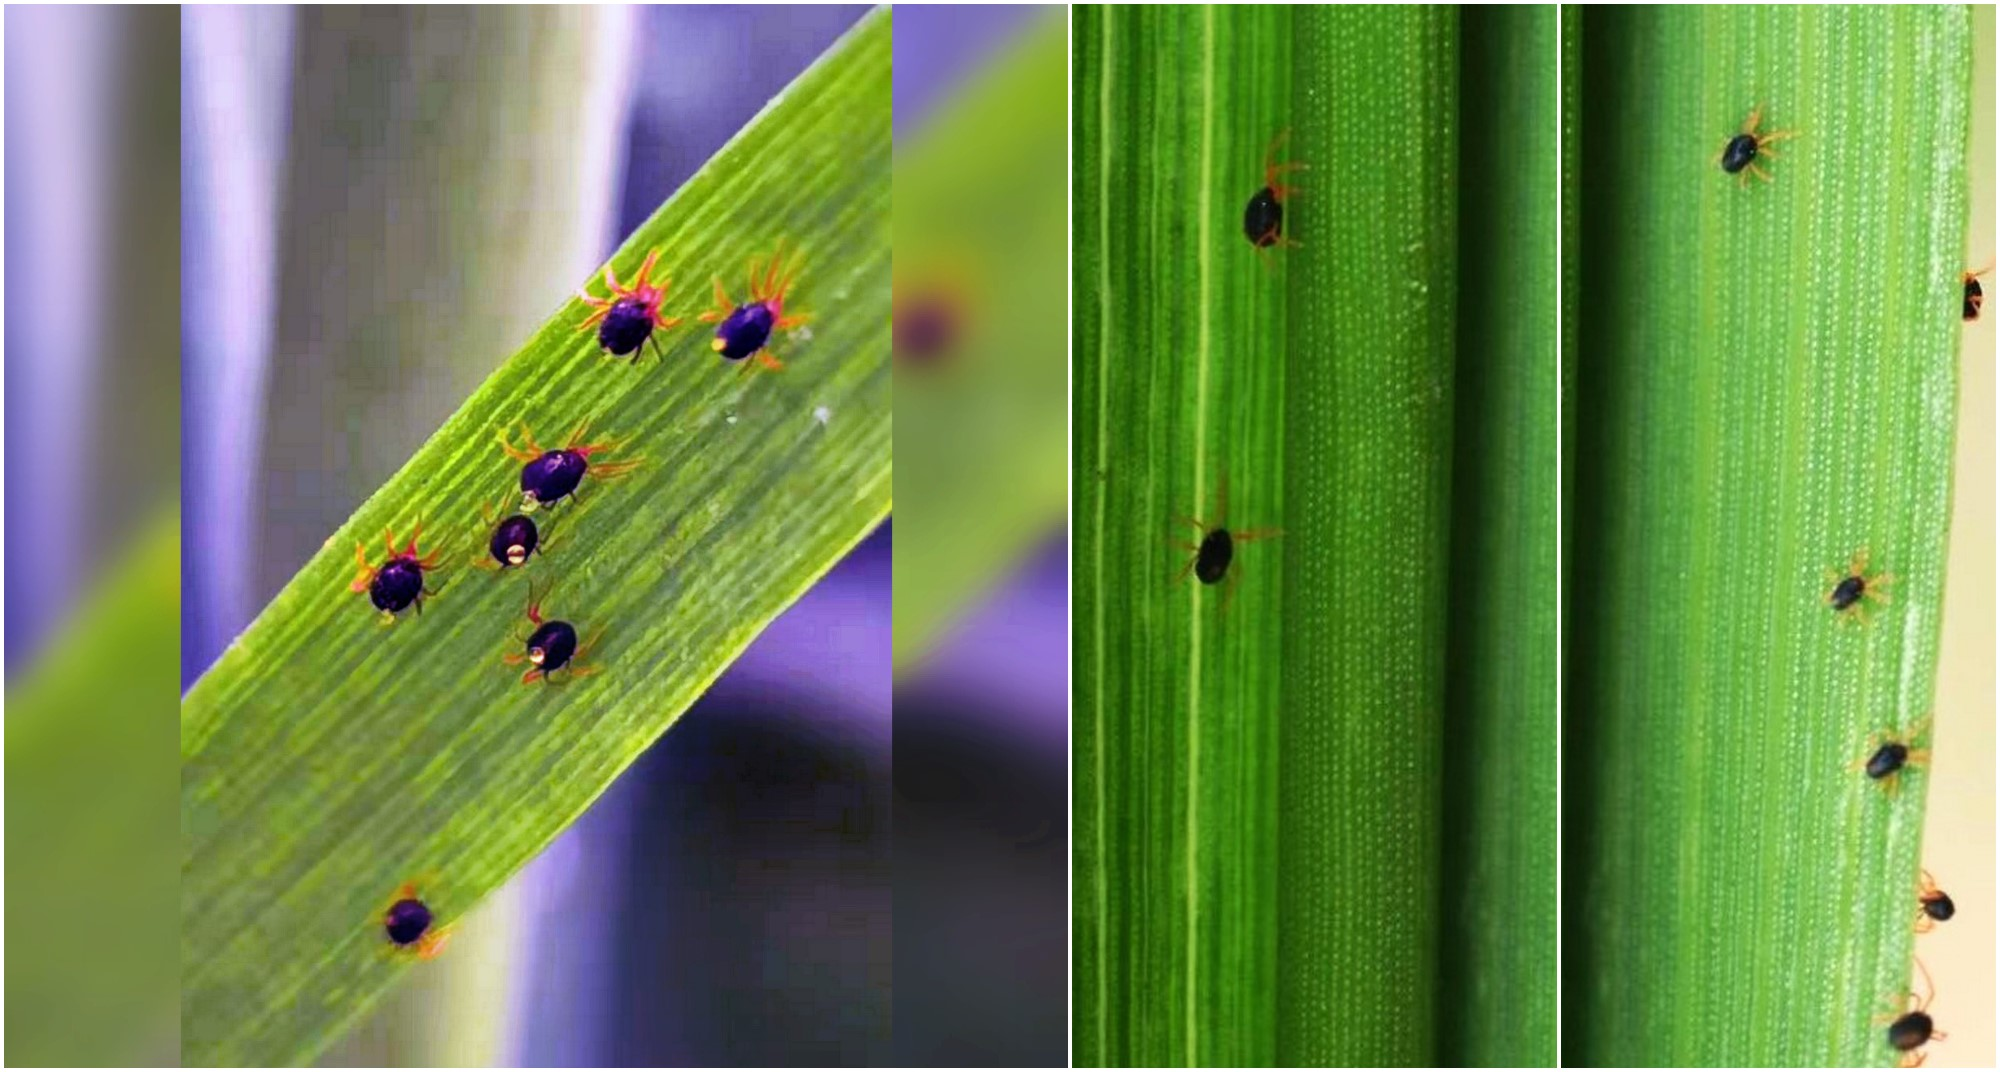Wheat Red Spider: (546, 244, 829, 388), (1220, 116, 1327, 271)
